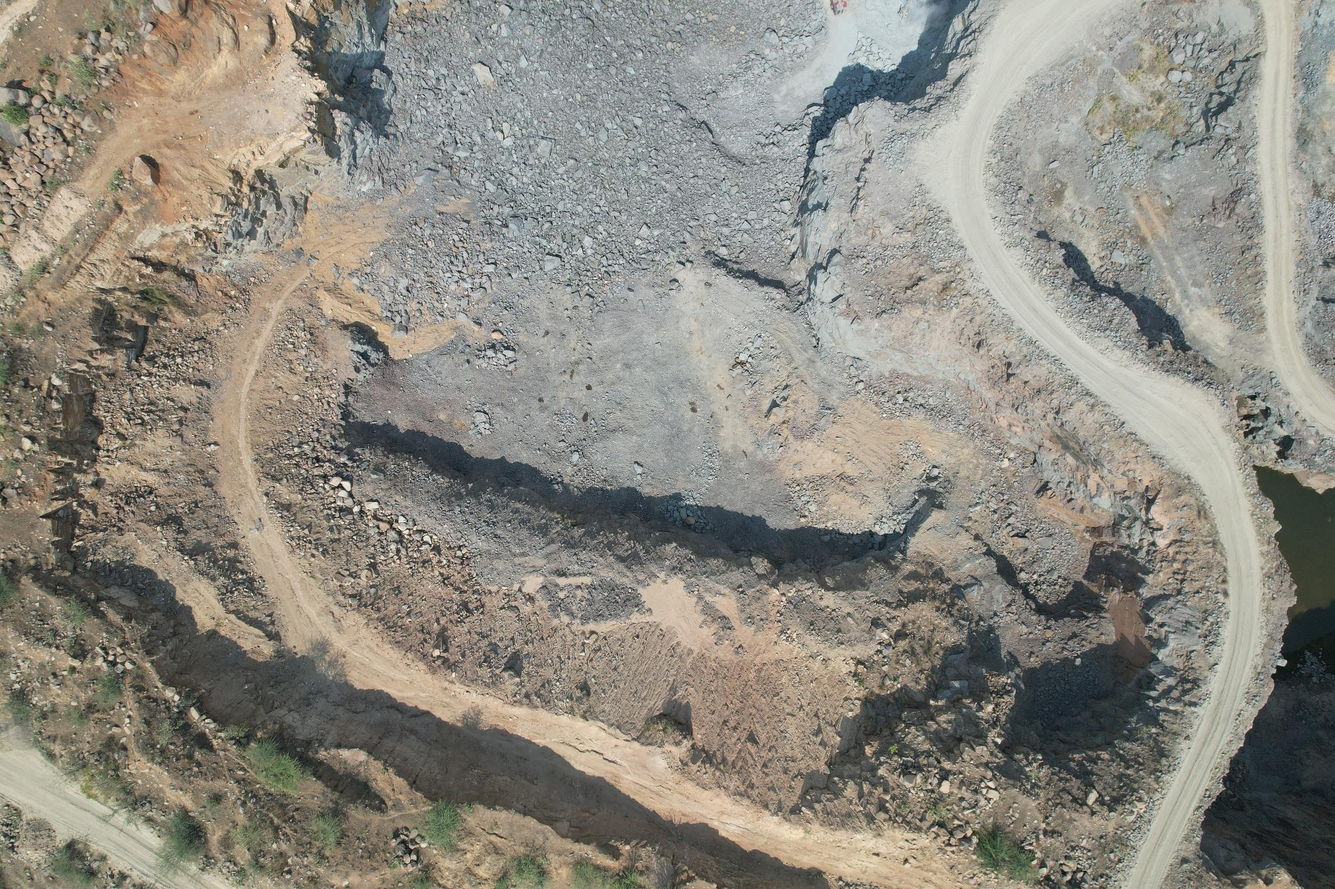benches: (168, 272, 917, 887), (925, 0, 1261, 889), (1256, 0, 1335, 437)
